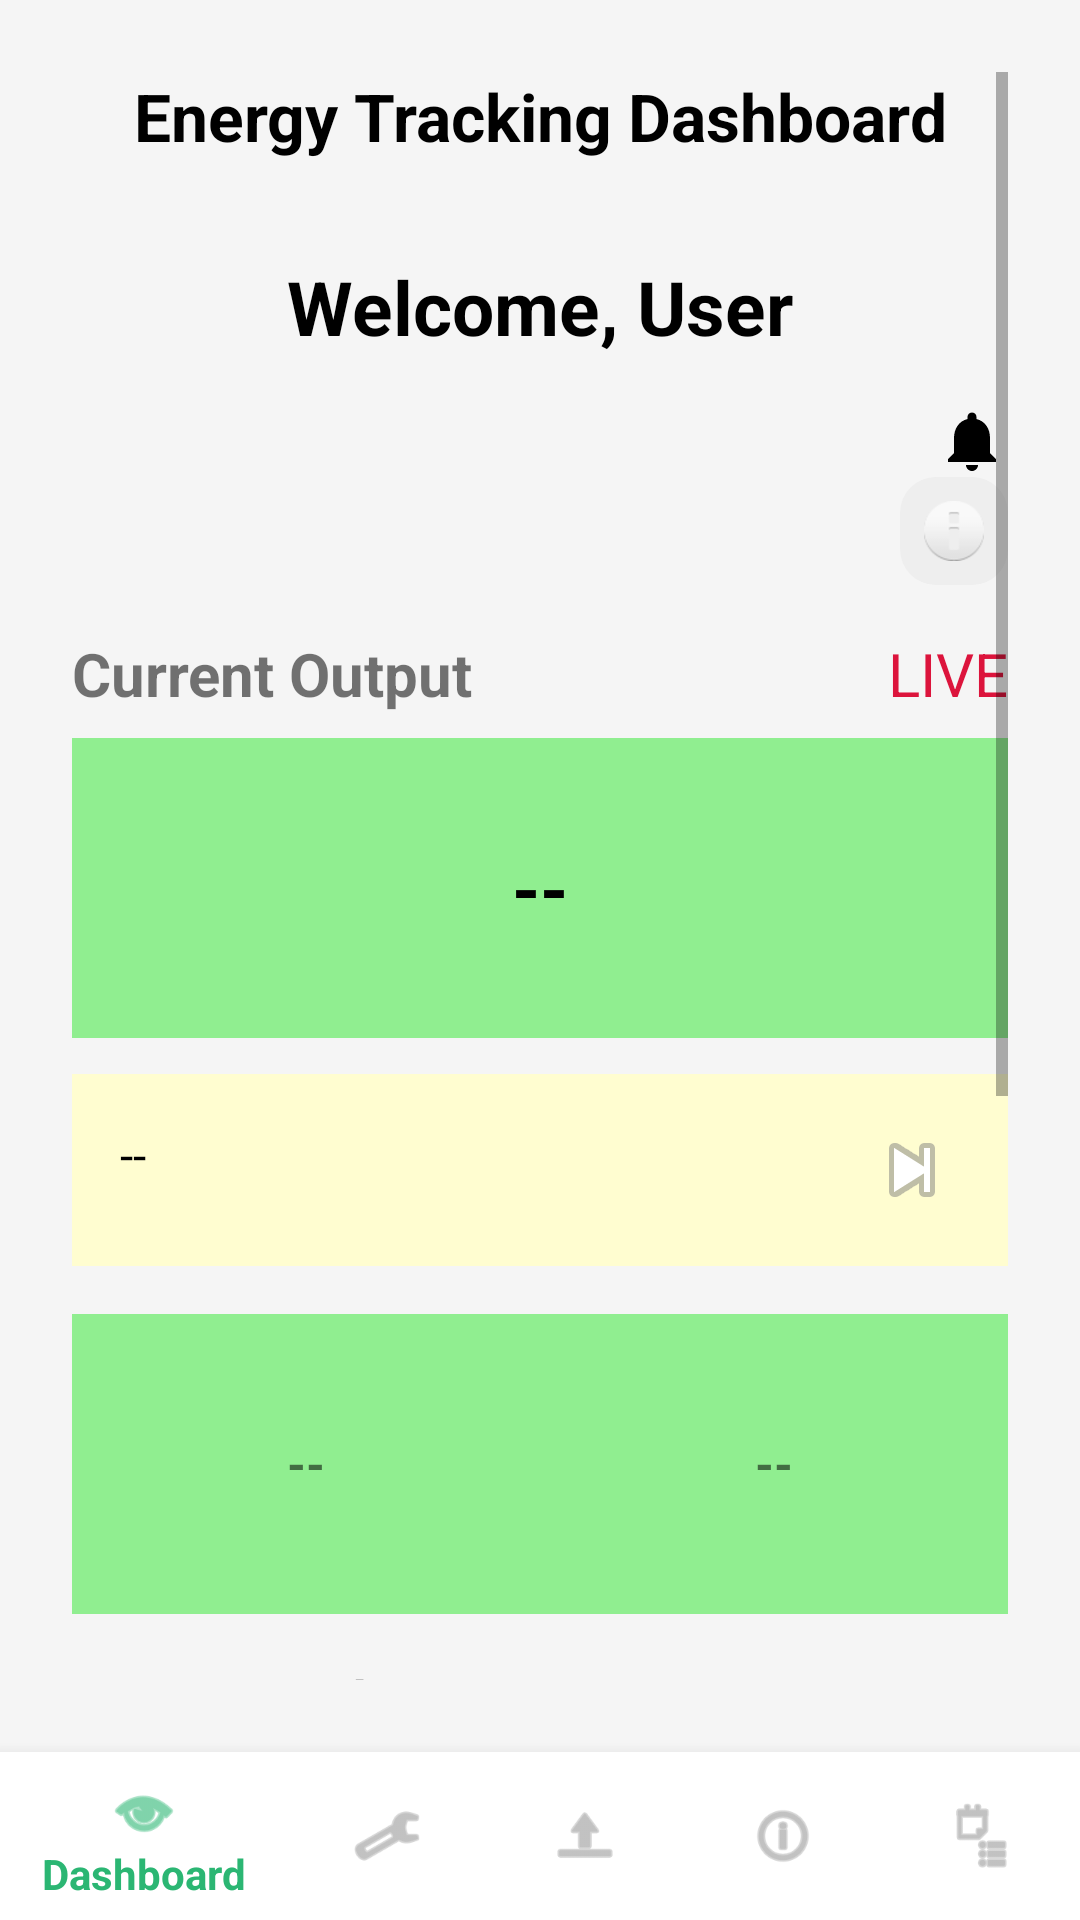

Point at icon controls on the screen. Image size 1080×1920, points as (x,y).
next: (912,1170)
Notifications: (978,441)
